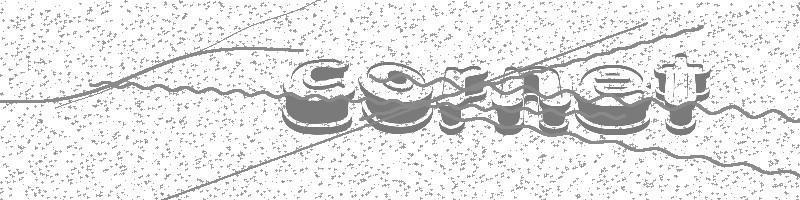c: (281, 57, 356, 136)
e: (574, 64, 654, 136)
n: (493, 66, 571, 136)
o: (357, 61, 434, 135)
r: (438, 65, 488, 136)
t: (653, 52, 712, 137)
